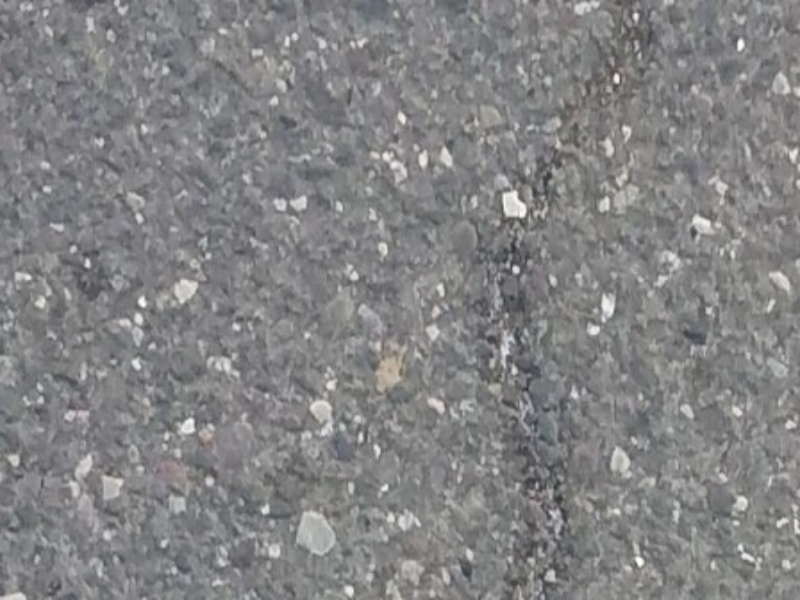crack: (508, 3, 645, 589)
